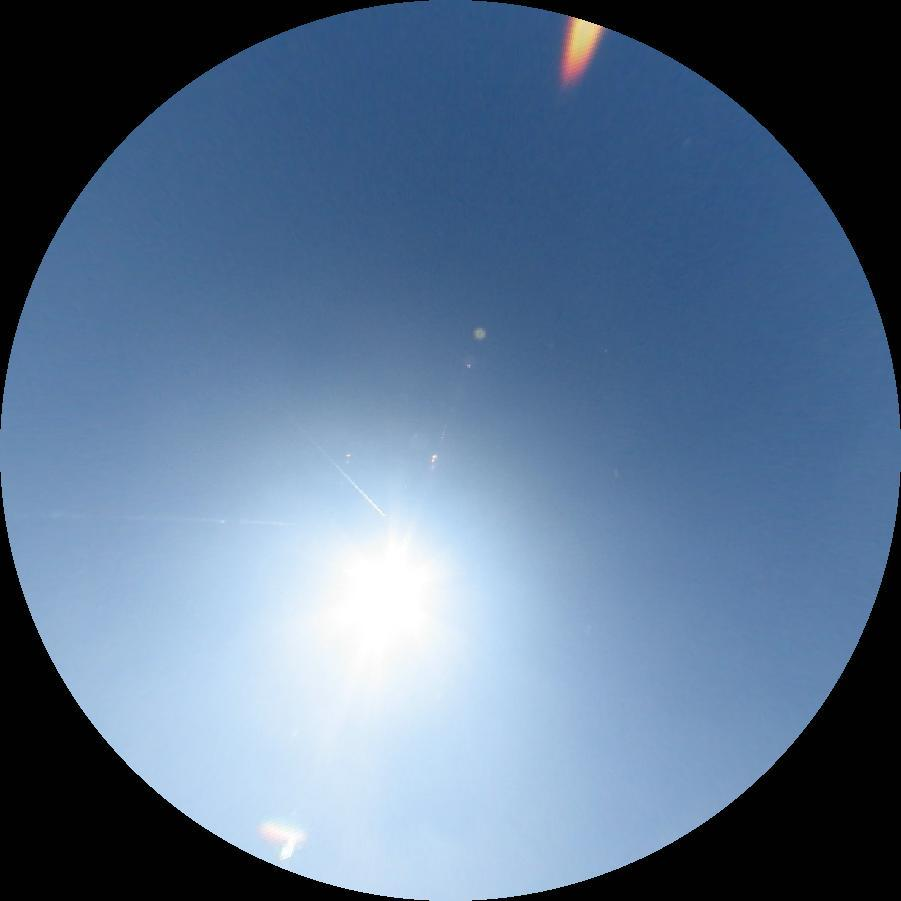contrail young: (279, 404, 386, 517)
parasite: (3, 509, 298, 526)
sun: (332, 549, 426, 653)
